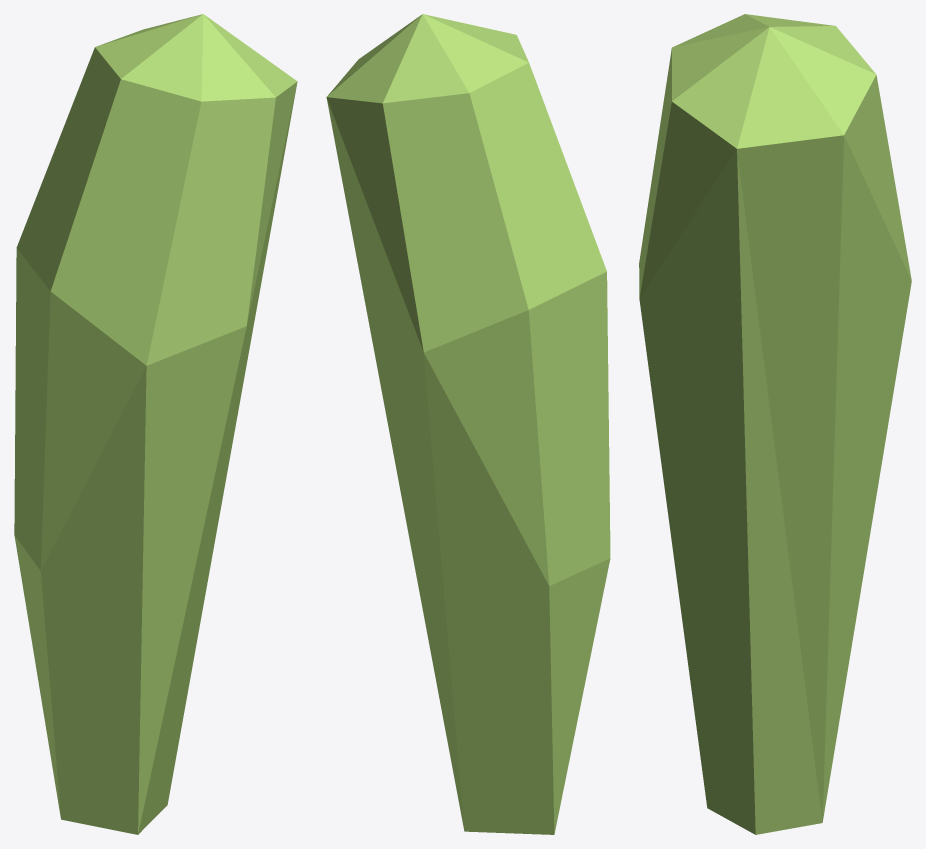
Rendered from Cactus_a_m_BT_02.fbx.
The picture shows the model from 3 angles, left to right: view 1: azimuth 30°, elevation 25°; view 2: azimuth 150°, elevation 25°; view 3: azimuth 270°, elevation 25°; orthographic projection. The views are drawn at different scales.
Visible parts, largest first — view 1: Cactus_a_m_BT_02; view 2: Cactus_a_m_BT_02; view 3: Cactus_a_m_BT_02.
Part boxes in pixels (bbox=[...]): Cactus_a_m_BT_02: bbox=[14, 14, 297, 834]; Cactus_a_m_BT_02: bbox=[326, 14, 610, 834]; Cactus_a_m_BT_02: bbox=[639, 14, 911, 834].
Size of the model in its own units: 75.94 by 222 by 66.18.
